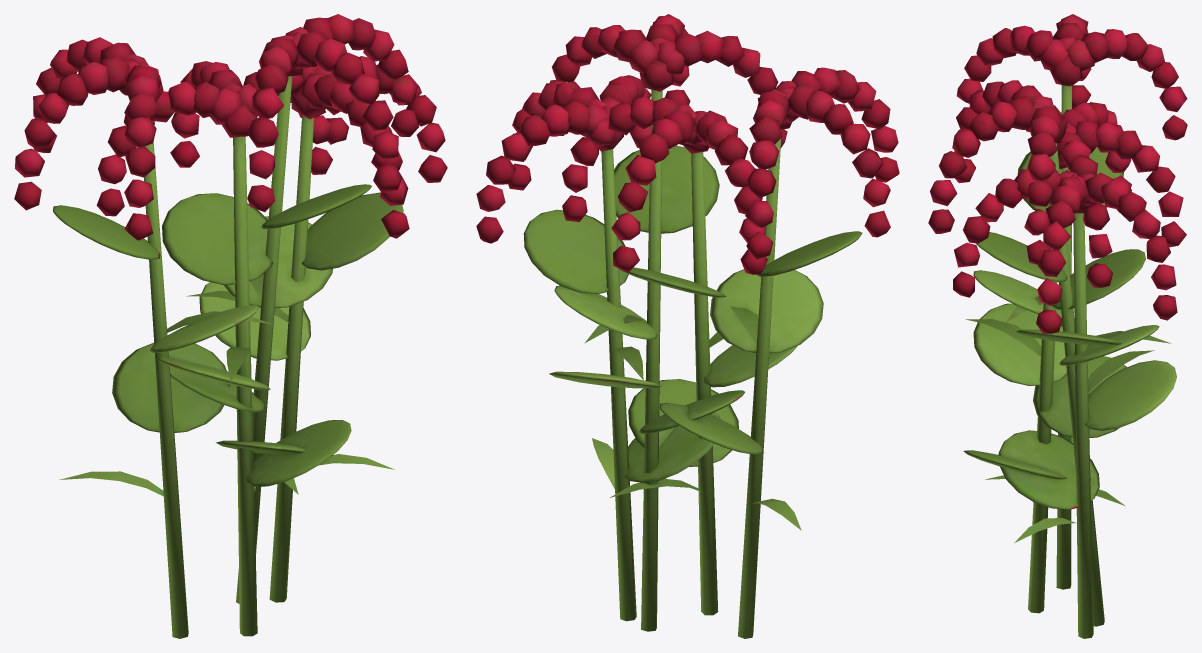
File: crop_amaranth.glb
3 renders of one model, left to right at view 1: azimuth 30°, elevation 25°; view 2: azimuth 150°, elevation 25°; view 3: azimuth 270°, elevation 25°, orthographic. The views are drawn at different scales.
Visible parts, largest first — view 1: crop_amaranth, fruit; view 2: crop_amaranth, fruit; view 3: fruit, crop_amaranth.
Boxes of the visible parts, x1=… form: crop_amaranth: x1=53, y1=76, x2=403, y2=638; fruit: x1=14, y1=14, x2=447, y2=240; crop_amaranth: x1=523, y1=89, x2=862, y2=638; fruit: x1=476, y1=14, x2=899, y2=274; fruit: x1=928, y1=14, x2=1187, y2=333; crop_amaranth: x1=963, y1=85, x2=1176, y2=638.
Size of the model in its own units: 0.3228 by 0.4399 by 0.1925.
1 material, 1 textured.
